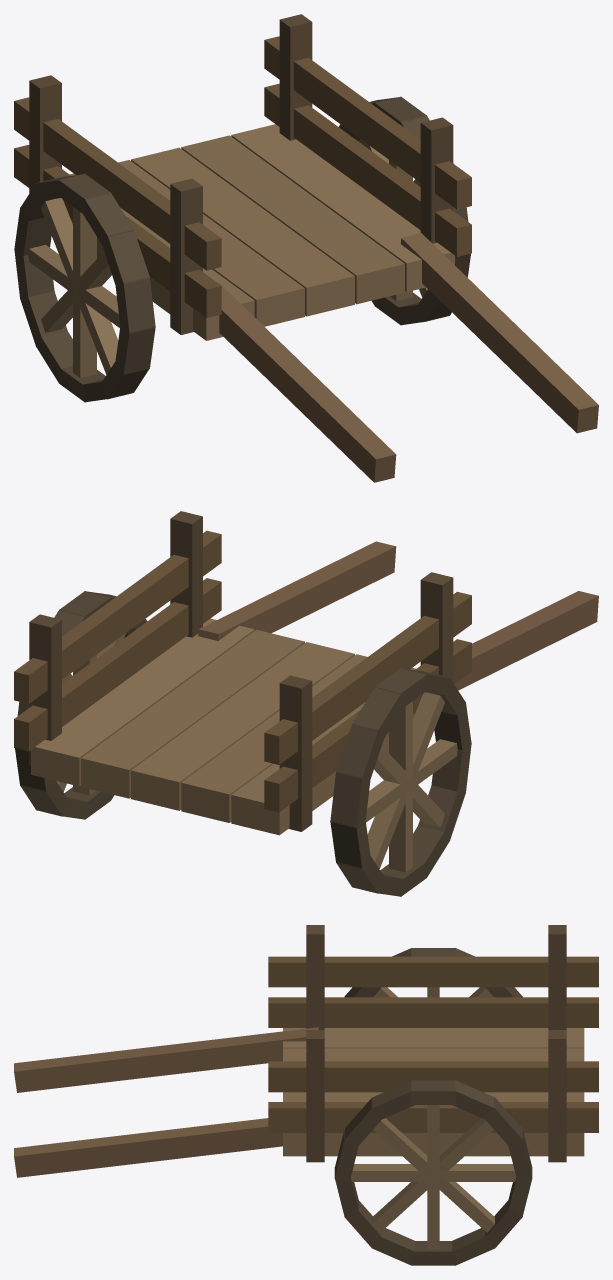
File: cart.glb
3 renders of one model, top to bottom at view 1: azimuth 30°, elevation 25°; view 2: azimuth 150°, elevation 25°; view 3: azimuth 270°, elevation 25°, orthographic. The views are drawn at different scales.
Visible parts, largest first — view 1: cart; view 2: cart; view 3: cart.
Boxes of the visible parts, box(x1,y1,x2,y2) form: cart: box(14, 14, 598, 482); cart: box(14, 511, 598, 896); cart: box(14, 925, 598, 1265).
Bounding box in the file's own units: 0.574 × 0.3963 × 0.9904.
